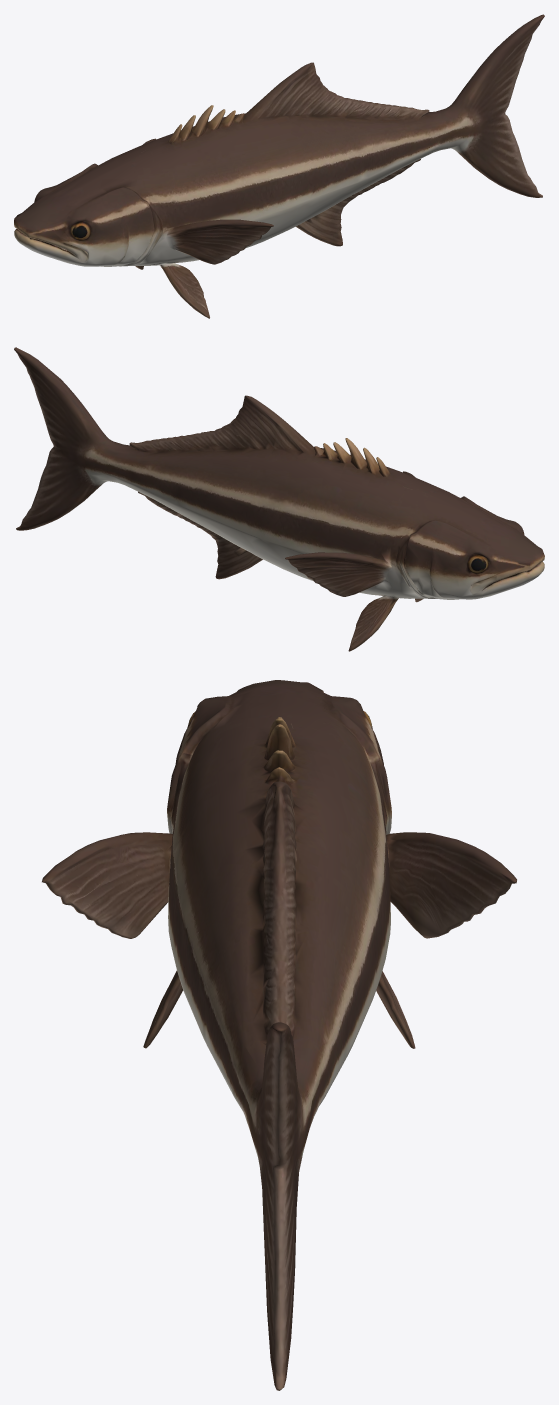
Rendered from fish-kobiya.glb.
The picture shows the model from 3 angles, top to bottom: view 1: azimuth 30°, elevation 25°; view 2: azimuth 150°, elevation 25°; view 3: azimuth 270°, elevation 25°; orthographic projection. The views are drawn at different scales.
Visible parts, largest first — view 1: tripo_node_e6dd7e90-3301-4556-b82c-7d231aaaa219; view 2: tripo_node_e6dd7e90-3301-4556-b82c-7d231aaaa219; view 3: tripo_node_e6dd7e90-3301-4556-b82c-7d231aaaa219.
Part boxes in pixels (x1,y1,x2,y2): tripo_node_e6dd7e90-3301-4556-b82c-7d231aaaa219: [14, 14, 544, 318]; tripo_node_e6dd7e90-3301-4556-b82c-7d231aaaa219: [14, 347, 544, 651]; tripo_node_e6dd7e90-3301-4556-b82c-7d231aaaa219: [42, 680, 516, 1390].
Bounding box in the file's own units: 0.9997 × 0.3596 × 0.391.
Materials: 1 (1 with a texture image).
